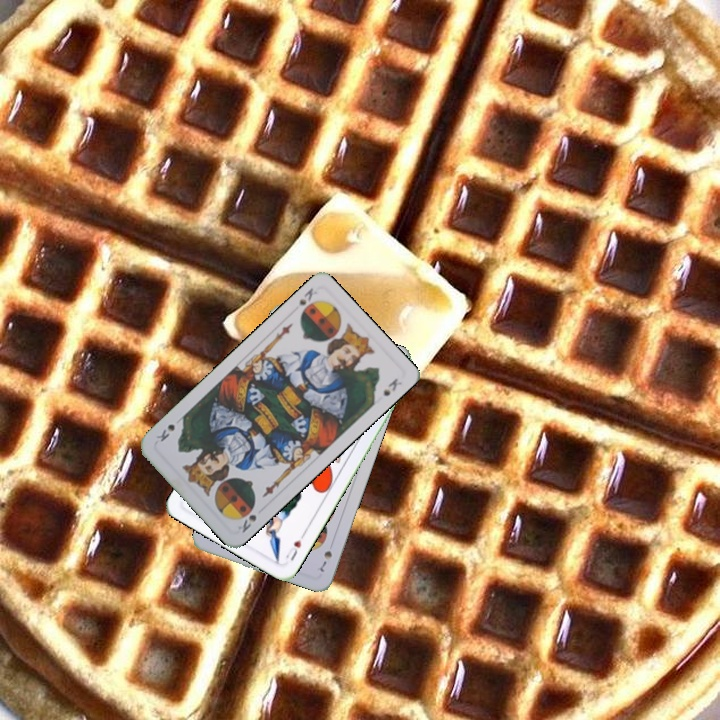HU: (281, 529, 308, 564)
S7: (316, 546, 335, 575)
SK: (294, 283, 320, 318), (234, 510, 259, 536)
